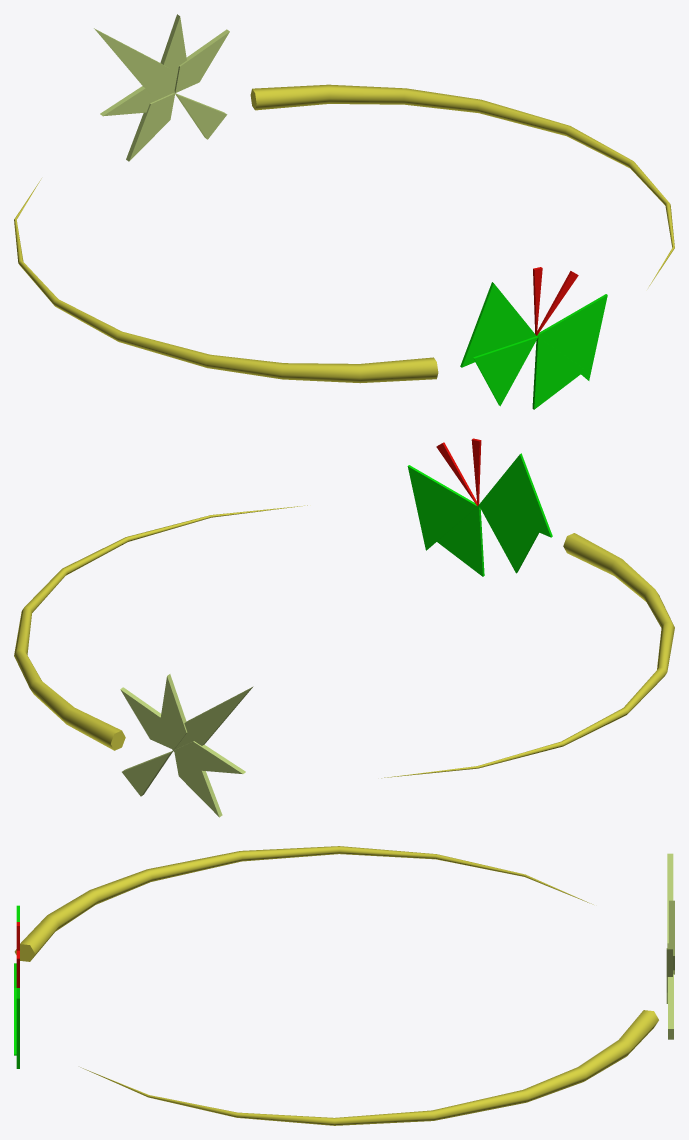
File: intoxicationring.fbx
3 views of the same model, one above another, from view 1: azimuth 30°, elevation 25°; view 2: azimuth 150°, elevation 25°; view 3: azimuth 270°, elevation 25° (orthographic). The views are drawn at different scales.
Visible parts, largest first — view 1: Plane.004, Plane.045, BezierCircle.001, BezierCircle; view 2: Plane.004, Plane.045, BezierCircle, BezierCircle.001; view 3: BezierCircle, BezierCircle.001, Plane.045, Plane.004.
Boxes of the visible parts, bbox=[...] form: Plane.004: bbox=[460, 267, 607, 409]; Plane.045: bbox=[94, 14, 229, 161]; BezierCircle.001: bbox=[14, 178, 438, 383]; BezierCircle: bbox=[250, 84, 674, 287]; Plane.004: bbox=[407, 438, 552, 576]; Plane.045: bbox=[120, 674, 253, 817]; BezierCircle: bbox=[14, 505, 307, 750]; BezierCircle.001: bbox=[381, 533, 674, 778]; BezierCircle: bbox=[80, 1010, 658, 1125]; BezierCircle.001: bbox=[14, 846, 593, 961]; Plane.045: bbox=[666, 853, 674, 1039]; Plane.004: bbox=[14, 905, 19, 1068].
Bounding box in the file's own units: 202 × 52.84 × 206.
